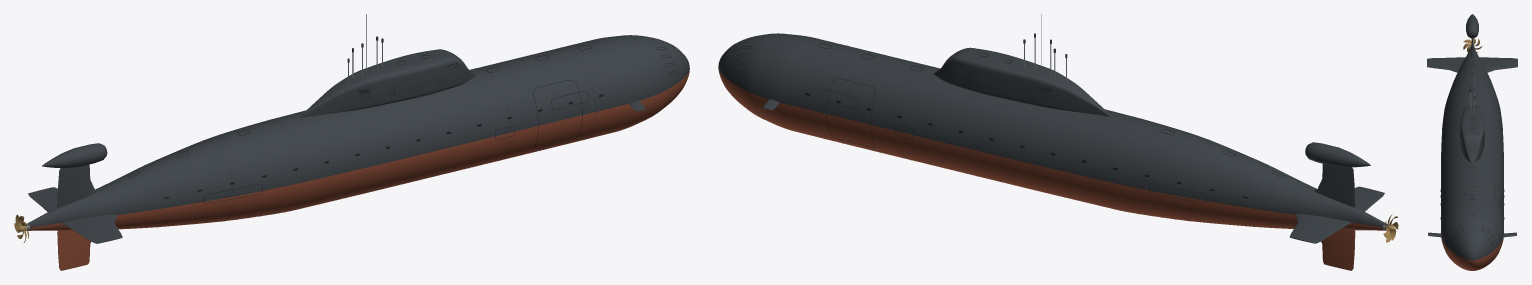
The model's file is RU_SSN_Akula_LOD0.fbx.
The picture shows the model from 3 angles, left to right: view 1: azimuth 30°, elevation 25°; view 2: azimuth 150°, elevation 25°; view 3: azimuth 270°, elevation 25°; orthographic projection. The views are drawn at different scales.
Parts seen in each view (by area): view 1: RU_SSN_Akula_LOD0; view 2: RU_SSN_Akula_LOD0; view 3: RU_SSN_Akula_LOD0.
Boxes of the visible parts, x1,y1,x2,y2 form: RU_SSN_Akula_LOD0: (14,14,689,270); RU_SSN_Akula_LOD0: (718,14,1398,270); RU_SSN_Akula_LOD0: (1427,14,1517,270).
Size of what is drawn, in the model's own units: 110 by 19.6 by 28.44.
